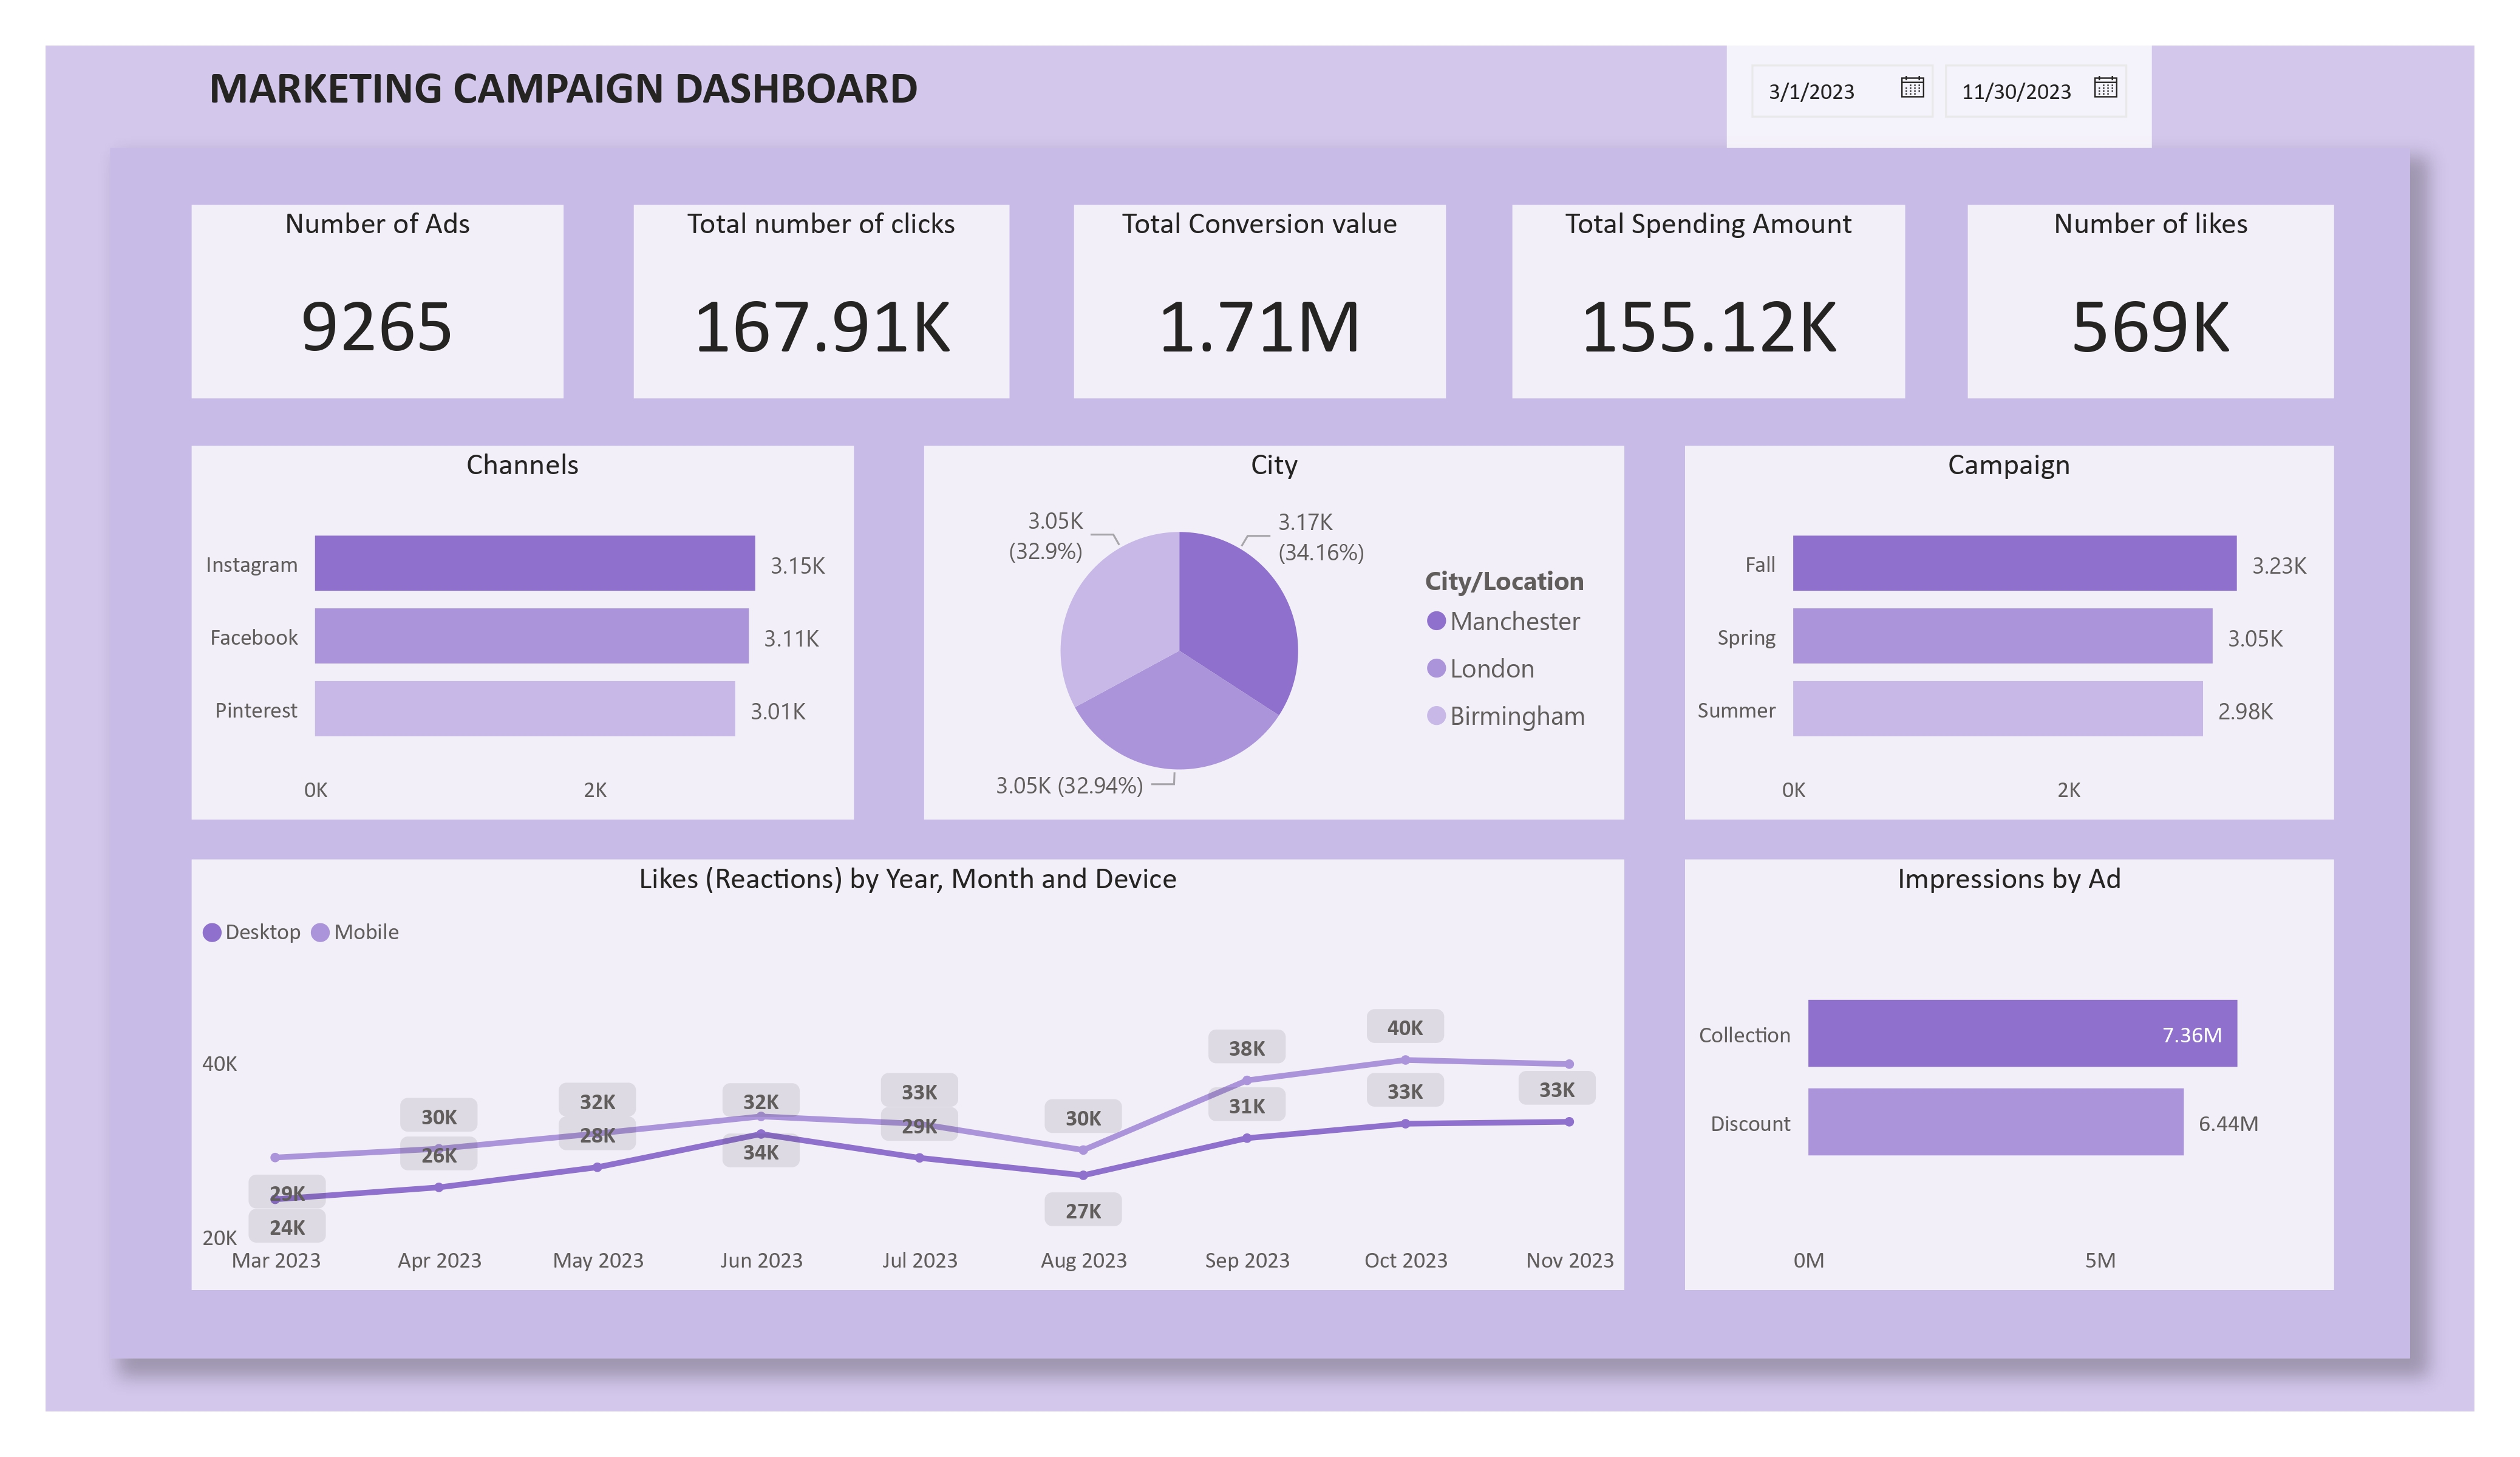

Layout of this report page (visuals, bound fields, positions):
{"tool":"powerbi","page":{"name":"Page 1","canvas":[1280,720],"ordinal":0},"visuals":[{"type":"shape","box":[34,54,1212,638],"z":0},{"type":"card","title":"Number of Ads","fields":{"Values":["CountNonNull(data.Campaign)"]},"box":[77.2,83.9,196.3,102.3],"z":1000},{"type":"textbox","box":[48.7,1.7,447.9,52],"z":2000},{"type":"card","title":"Total number of clicks","fields":{"Values":["Sum(data.Clicks)"]},"box":[310.4,83.9,198,102.3],"z":3000},{"type":"card","title":"Total Conversion value","fields":{"Values":["Sum(data.Total conversion value, GBP)"]},"box":[541.9,83.9,196.3,102.3],"z":4000},{"type":"card","title":"Total Spending Amount","fields":{"Values":["Sum(data.Spend, GBP)"]},"box":[773.4,83.9,206.3,102.3],"z":5000},{"type":"card","title":"Number of likes","fields":{"Values":["Sum(data.Likes (Reactions))"]},"box":[1013.3,83.9,192.9,102.3],"z":6000},{"type":"clusteredBarChart","title":"Channels","fields":{"Category":["data.Channel"],"Y":["CountNonNull(data.Campaign)"]},"box":[77.2,211.4,348.9,196.3],"z":7000},{"type":"clusteredBarChart","title":"Campaign","fields":{"Category":["data.Campaign"],"Y":["CountNonNull(data.Channel)"]},"box":[864,211.4,342.2,196.3],"z":8000},{"type":"pieChart","title":"City","fields":{"Category":["data.City/Location"],"Y":["CountNonNull(data.Campaign)"]},"box":[463,211.4,369.1,196.3],"z":9000},{"type":"clusteredBarChart","title":"Impressions by Ad","fields":{"Y":["Sum(data.Impressions)"],"Category":["data.Ad"]},"box":[864,429.5,342.2,226.5],"z":10000},{"type":"lineChart","title":"Likes (Reactions) by Year, Month and Device","fields":{"Category":["data.Date.Variation.Date Hierarchy.Year","data.Date.Variation.Date Hierarchy.Month"],"Y":["Sum(data.Likes (Reactions))"],"Series":["data.Device"]},"box":[77.2,429.5,754.9,226.5],"z":11000},{"type":"slicer","fields":{"Values":["data.Date"]},"box":[885.8,0,223.9,53.9],"z":11001}]}

Visuals, with their boxes in screenshot pixels (x1, y1, x2, y2):
shape: detection(110, 148, 2410, 1359)
"Number of Ads" card: detection(192, 205, 565, 399)
textbox: detection(138, 49, 988, 148)
"Total number of clicks" card: detection(635, 205, 1010, 399)
"Total Conversion value" card: detection(1074, 205, 1446, 399)
"Total Spending Amount" card: detection(1513, 205, 1905, 399)
"Number of likes" card: detection(1969, 205, 2334, 399)
"Channels" clusteredBarChart: detection(192, 447, 854, 819)
"Campaign" clusteredBarChart: detection(1685, 447, 2334, 819)
"City" pieChart: detection(924, 447, 1624, 819)
"Impressions by Ad" clusteredBarChart: detection(1685, 860, 2334, 1290)
"Likes (Reactions) by Year, Month and Device" lineChart: detection(192, 860, 1624, 1290)
slicer - data.Date: detection(1726, 46, 2151, 148)
